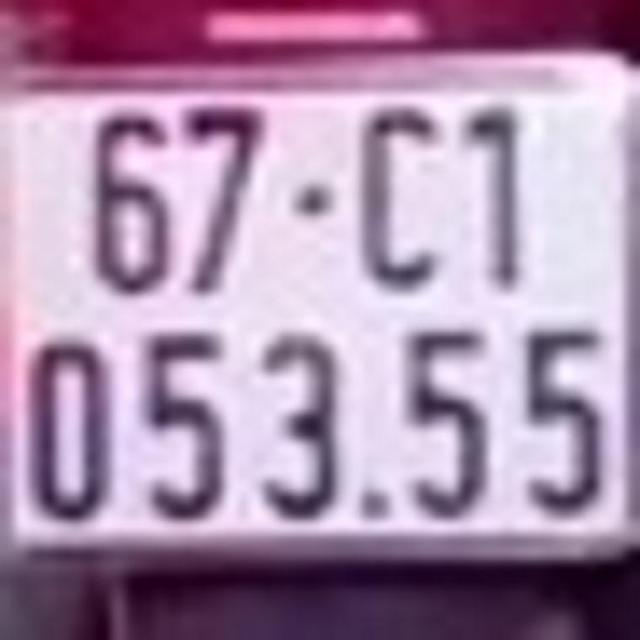0: (30, 335, 112, 524)
1: (464, 96, 528, 286)
3: (260, 331, 334, 524)
5: (411, 327, 491, 516), (526, 326, 606, 504), (142, 334, 222, 508)
6: (94, 109, 173, 288)
7: (181, 98, 263, 297)
C: (365, 96, 443, 283)
